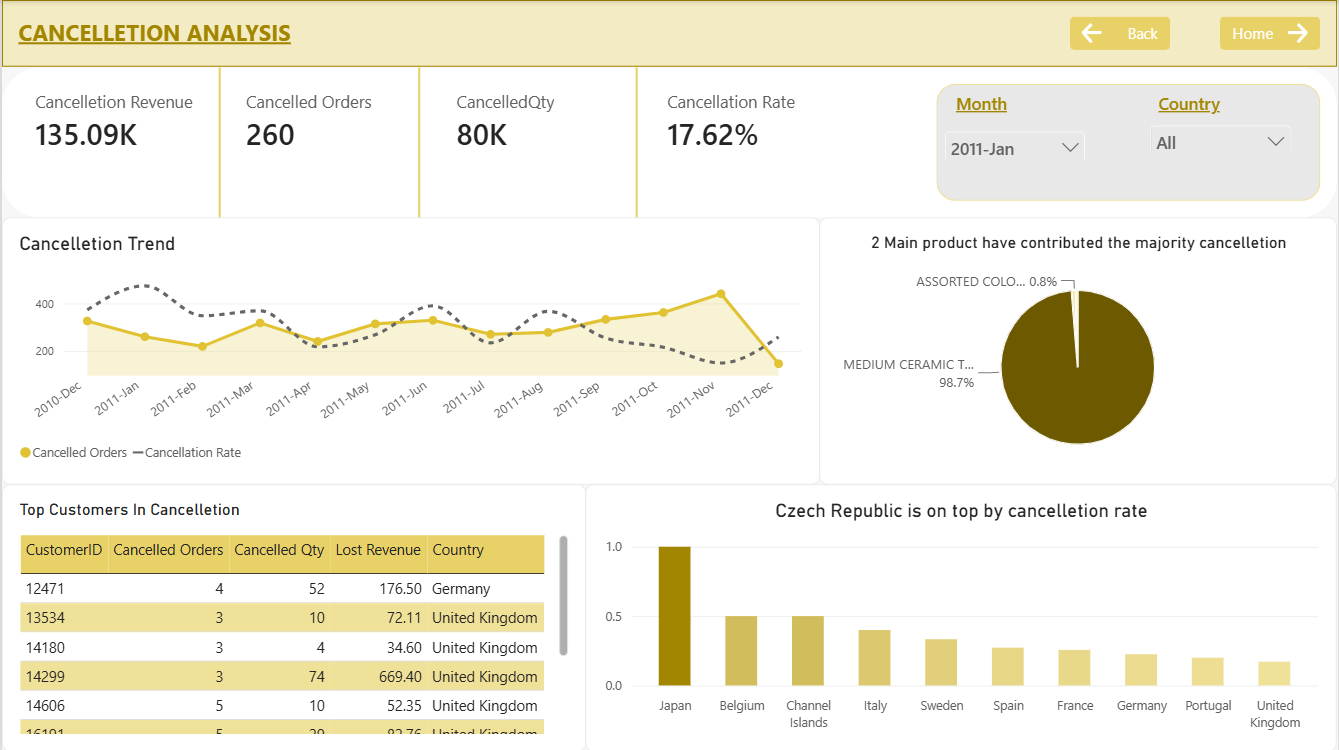

What the dashboard file says about the page in this screenshot:
{"tool":"powerbi","page":{"name":"Cancelletion Analysis","canvas":[1280,720],"ordinal":2},"visuals":[{"type":"shape","box":[0,0,1280,64],"z":0},{"type":"shape","box":[0,64,1280,144],"z":1000},{"type":"textbox","box":[16,16,512,32],"z":2000},{"type":"shape","box":[896,80,368,112],"z":3000},{"type":"cardVisual","fields":{"Data":["uci_sales.CancelledRe","uci_sales.Cancelled Orders","uci_sales.CancelledQty","uci_sales.Cancellation Rate"]},"box":[16,64,800,160],"z":4000},{"type":"shape","box":[192,64,32,144],"z":5000},{"type":"shape","box":[384,64,32,144],"z":6000},{"type":"shape","box":[592,64,32,144],"z":7000},{"type":"slicer","fields":{"Values":["Datetable.Month&Year"]},"box":[898.8,120.2,144,32],"z":8000},{"type":"group","id":"g1","title":"Group 1","box":[914.8,88.2,96,32],"z":9000},{"type":"slicer","fields":{"Values":["Dim_Customer.Country"]},"box":[1096.2,114.6,144,32],"z":10000},{"type":"group","id":"g2","title":"Group 1","box":[336,352,93.9,37.5],"z":11000},{"type":"group","id":"g3","title":"Group 1","box":[1108.9,87.9,90.5,26.7],"z":12000},{"type":"lineChart","title":"Cancelletion Trend","fields":{"Category":["Datetable.Month&Year"],"Y":["uci_sales.Cancelled Orders"],"Y2":["uci_sales.Cancellation Rate"]},"box":[0,208,784,256],"z":13000},{"type":"pieChart","title":"Top 5 Cancelled product","fields":{"Category":["uci_sales.Description"],"Y":["uci_sales.CancelledQty"]},"box":[784,208,496,256],"z":14000},{"type":"tableEx","title":"Top Customers In Cancelletion","fields":{"Values":["uci_sales.CustomerID","uci_sales.Cancelled Orders","uci_sales.CancelledQty","uci_sales.CancelledRe","Dim_Customer.Country"]},"box":[0,464,560,256],"z":15000},{"type":"shape","box":[914.8,88.2,102.9,18.8],"z":15500,"group":"g1"},{"type":"shape","box":[336,352,93.9,37.5],"z":15500,"group":"g2"},{"type":"columnChart","title":"Cancellation Rate vs Country","fields":{"Category":["Dim_Customer.Country"],"Y":["uci_sales.Cancellation Rate"]},"box":[560,464,704,256],"z":16000},{"type":"actionButton","box":[1024,16,96,32],"z":17000},{"type":"actionButton","box":[1168,16,96,32],"z":18000},{"type":"textbox","box":[1108.9,87.9,90.5,26.7],"z":18000,"group":"g3"},{"type":"textbox","box":[914.8,88.2,96,32],"z":18000,"group":"g1"}]}

Visuals, with their boxes in screenshot pixels (x1, y1, x2, y2), scaled from the page's 1280x720 canvas onto the 1339x750 screenshot:
shape: (x1=0, y1=0, x2=1338, y2=67)
shape: (x1=0, y1=67, x2=1338, y2=217)
textbox: (x1=17, y1=17, x2=552, y2=50)
shape: (x1=937, y1=83, x2=1322, y2=200)
cardVisual - uci_sales.CancelledRe x uci_sales.Cancelled Orders: (x1=17, y1=67, x2=854, y2=233)
shape: (x1=201, y1=67, x2=234, y2=217)
shape: (x1=402, y1=67, x2=435, y2=217)
shape: (x1=619, y1=67, x2=653, y2=217)
slicer - Datetable.Month&Year: (x1=940, y1=125, x2=1091, y2=159)
"Group 1" group: (x1=957, y1=92, x2=1057, y2=125)
slicer - Dim_Customer.Country: (x1=1147, y1=119, x2=1297, y2=153)
"Group 1" group: (x1=351, y1=367, x2=450, y2=406)
"Group 1" group: (x1=1160, y1=92, x2=1255, y2=119)
"Cancelletion Trend" lineChart: (x1=0, y1=217, x2=820, y2=483)
"Top 5 Cancelled product" pieChart: (x1=820, y1=217, x2=1338, y2=483)
"Top Customers In Cancelletion" tableEx: (x1=0, y1=483, x2=586, y2=749)
shape: (x1=957, y1=92, x2=1065, y2=111)
shape: (x1=351, y1=367, x2=450, y2=406)
"Cancellation Rate vs Country" columnChart: (x1=586, y1=483, x2=1322, y2=749)
actionButton: (x1=1071, y1=17, x2=1172, y2=50)
actionButton: (x1=1222, y1=17, x2=1322, y2=50)
textbox: (x1=1160, y1=92, x2=1255, y2=119)
textbox: (x1=957, y1=92, x2=1057, y2=125)
